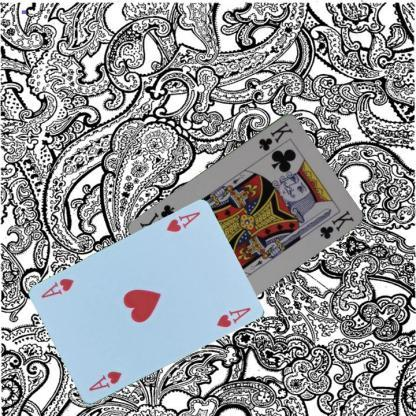Ah: (164, 209, 202, 235), (86, 368, 123, 393)
Kc: (256, 119, 295, 152)
